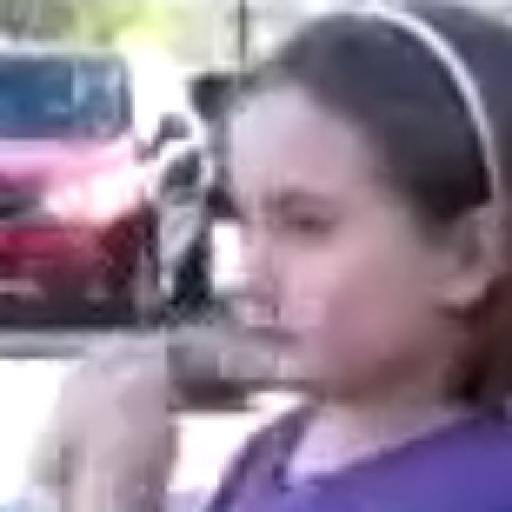Autism: (187, 25, 512, 453)
